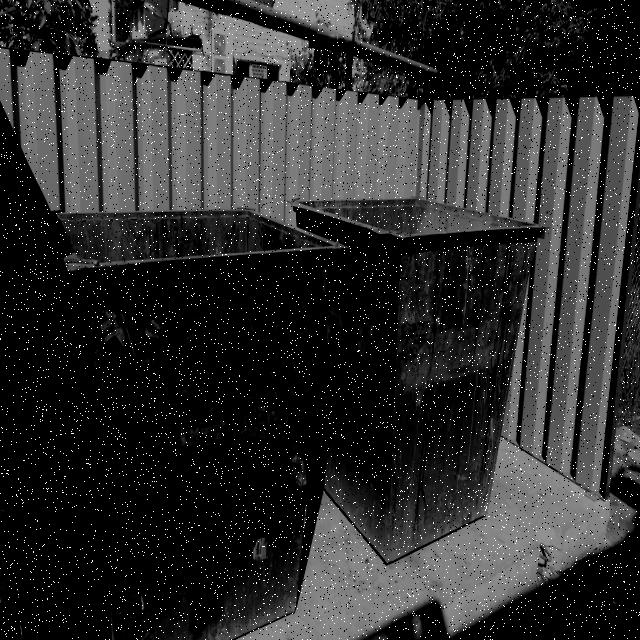Trashcan: (35, 141, 356, 639), (285, 111, 558, 581)
